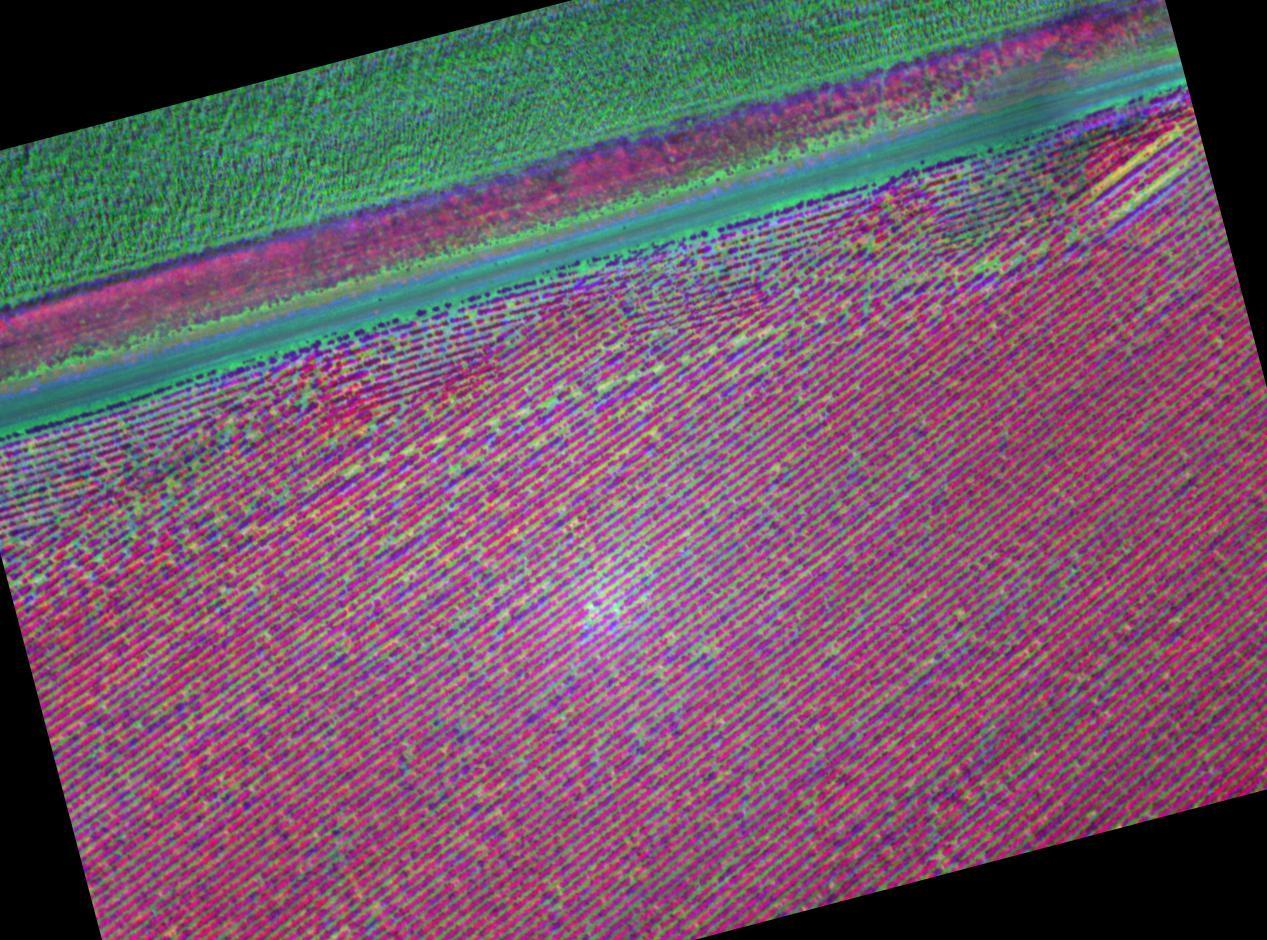dc: (735, 338, 741, 344), (1016, 254, 1020, 258), (919, 274, 923, 278), (684, 531, 688, 535), (1061, 582, 1064, 584)
